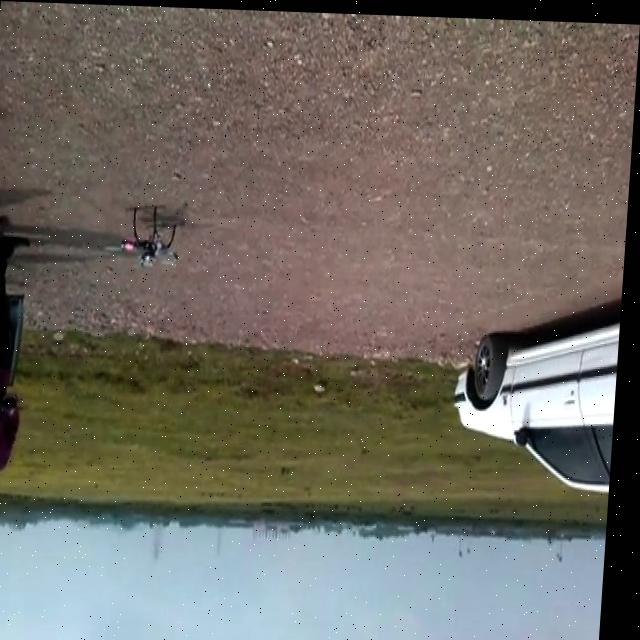drone: (107, 207, 185, 271)
